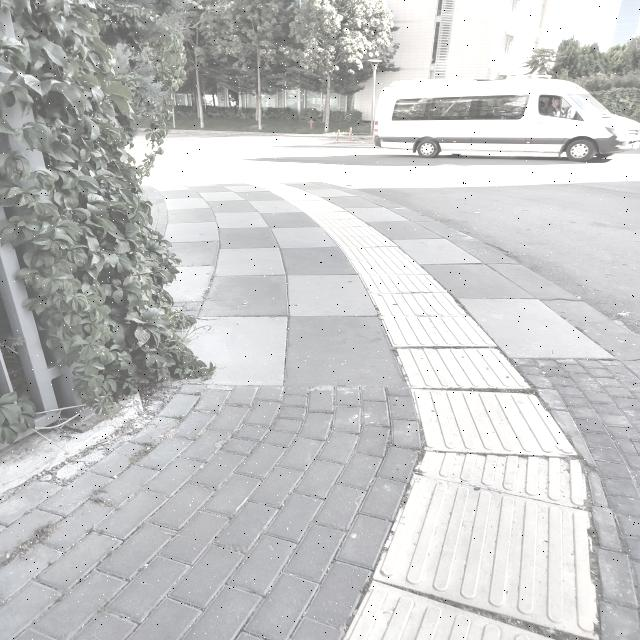sidewalk: (2, 170, 637, 640)
